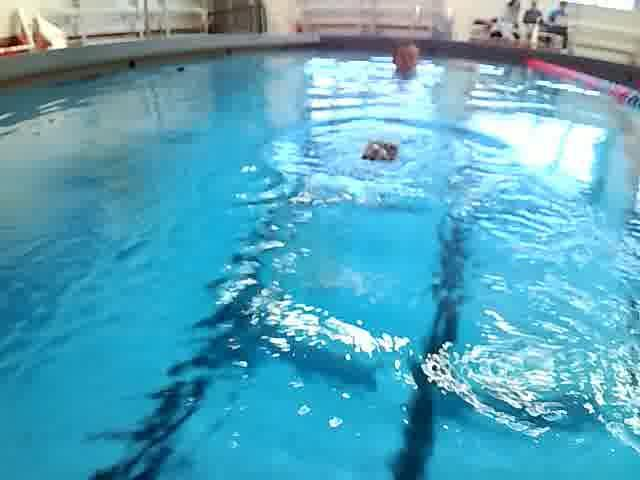CamMount: (358, 132, 402, 168)
